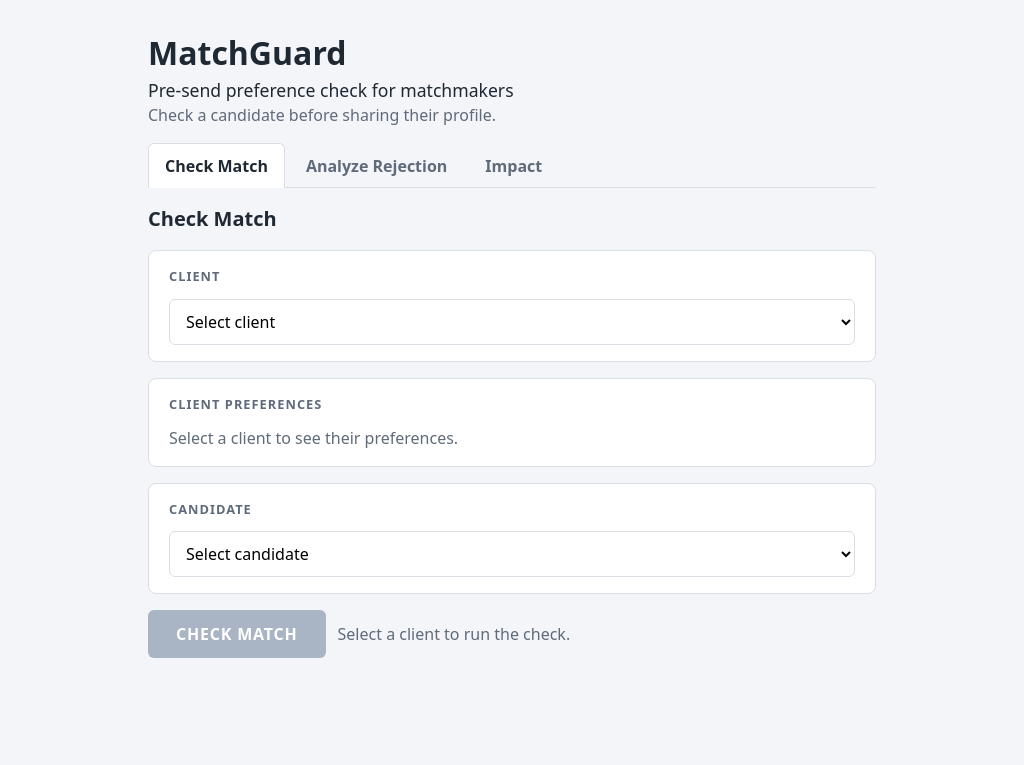
Scenario: App › keeps the check button disabled until both selections are made
The width and height of the screenshot is (1024, 765).
Expected: the button "Check match" is disabled, [148,610,326,658]
Expected: the text "Select a client to run the check." is shown, [338,622,570,646]
Select "Rahul" in the dropdown labelled "Client". click: (512,322)
box: [169,299,855,345]
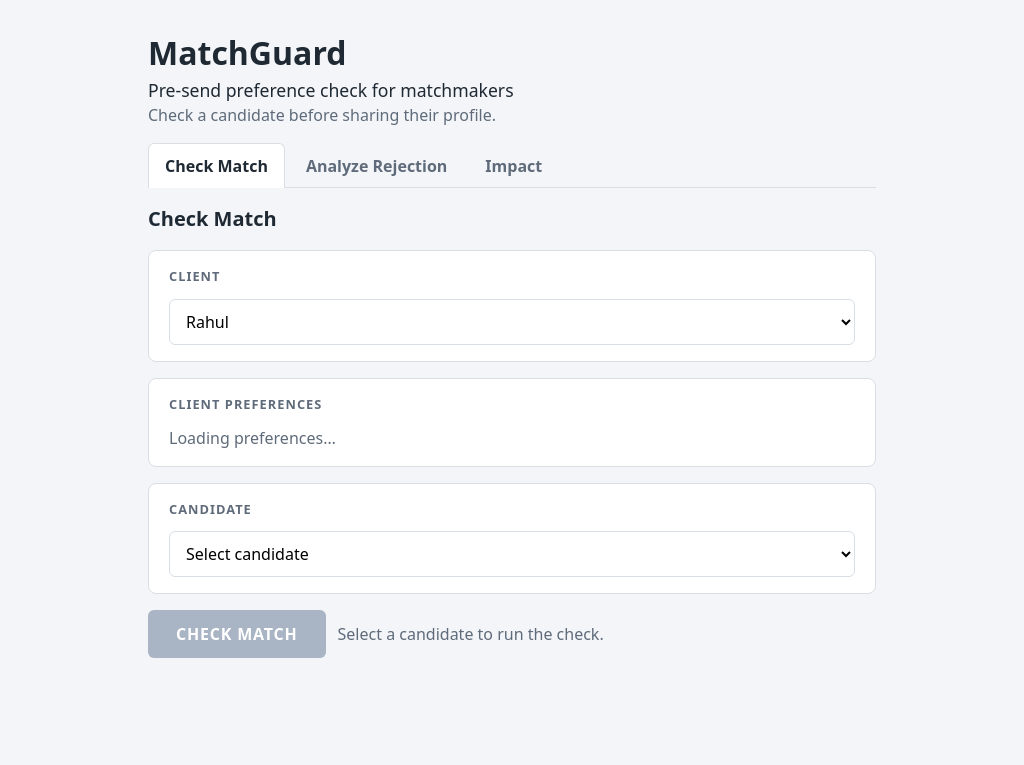
Expected: the button "Check match" is disabled, [148,610,326,658]
Expected: the text "Select a candidate to run the check." is shown, [338,622,604,646]
Select "Ishita — 29 · Delhi NCR" in the dropdown labelled "Candidate". click: (512,554)
box: [169,531,855,577]
(page scrolled)
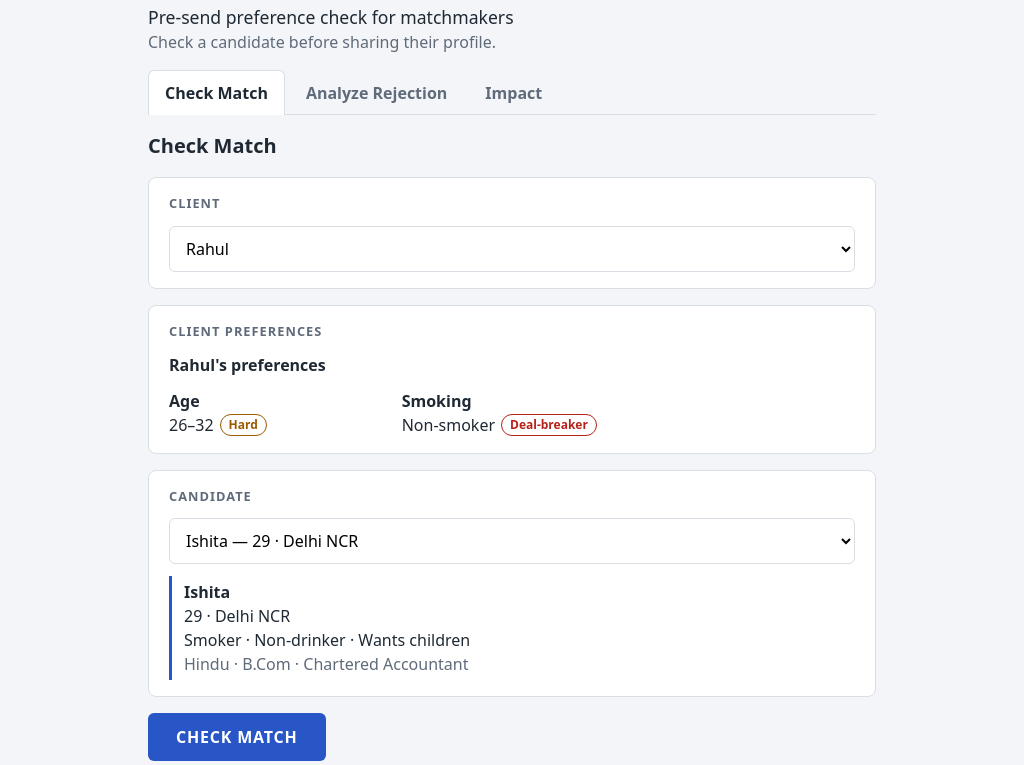
Expected: the button "Check match" is enabled, [148,713,326,761]
